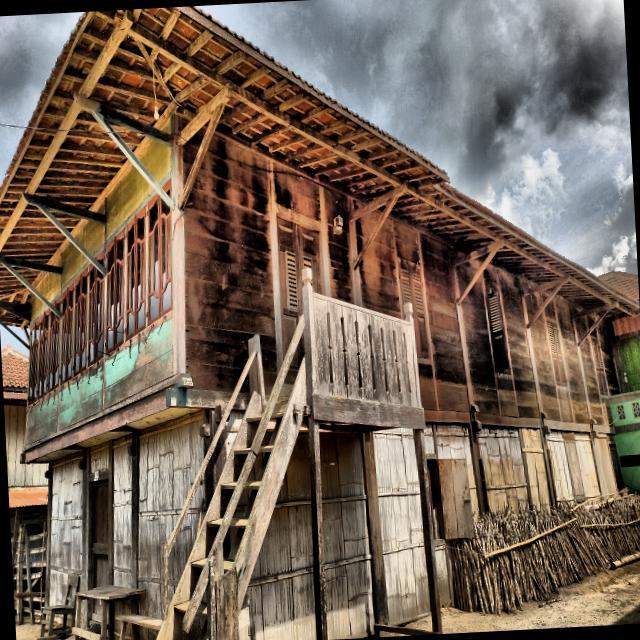door: (276, 215, 323, 362), (91, 478, 109, 589)
ornamen: (313, 297, 418, 407)
roof: (0, 6, 640, 312), (1, 344, 29, 399), (8, 486, 48, 508)
stair: (156, 317, 307, 640), (258, 350, 260, 363), (236, 388, 240, 392), (223, 418, 226, 422), (244, 370, 247, 373), (174, 530, 176, 534), (232, 398, 234, 400), (240, 379, 241, 381), (197, 484, 198, 486), (230, 403, 231, 403)
wall: (184, 131, 277, 401), (25, 318, 174, 447), (239, 432, 315, 640), (138, 412, 205, 619), (319, 433, 375, 640), (373, 428, 431, 624), (420, 232, 470, 412), (478, 424, 552, 516), (498, 271, 540, 419), (461, 274, 500, 416), (49, 454, 83, 606), (435, 424, 480, 522), (555, 300, 590, 424), (359, 216, 401, 319), (580, 322, 621, 426), (547, 429, 601, 506), (323, 186, 354, 305), (4, 405, 49, 486), (107, 165, 154, 240), (530, 311, 561, 422), (113, 433, 132, 588), (273, 162, 321, 222), (138, 140, 171, 183), (593, 437, 617, 495), (62, 242, 88, 289), (525, 287, 556, 323), (74, 221, 105, 255), (497, 377, 518, 417), (35, 272, 61, 302), (456, 263, 479, 296), (575, 315, 600, 342), (557, 389, 574, 423), (31, 292, 46, 321)
window: (427, 458, 475, 541), (398, 262, 431, 359), (148, 197, 172, 320), (127, 210, 147, 337), (486, 289, 512, 375), (107, 234, 124, 350), (88, 267, 104, 364), (546, 320, 568, 387), (60, 282, 74, 386), (74, 272, 88, 373), (47, 296, 61, 394), (590, 337, 609, 396), (38, 308, 49, 400), (28, 318, 39, 406), (566, 442, 584, 495), (97, 255, 104, 265)
